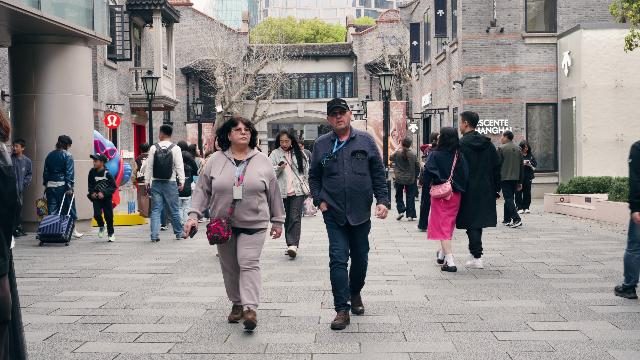person: (186, 113, 295, 342), (308, 97, 389, 330), (455, 110, 502, 269), (420, 126, 469, 272), (268, 128, 310, 259), (144, 124, 187, 243), (41, 135, 83, 239), (497, 130, 525, 229), (86, 153, 117, 242), (389, 137, 421, 221), (10, 138, 33, 239), (417, 132, 440, 231), (131, 142, 149, 208)
